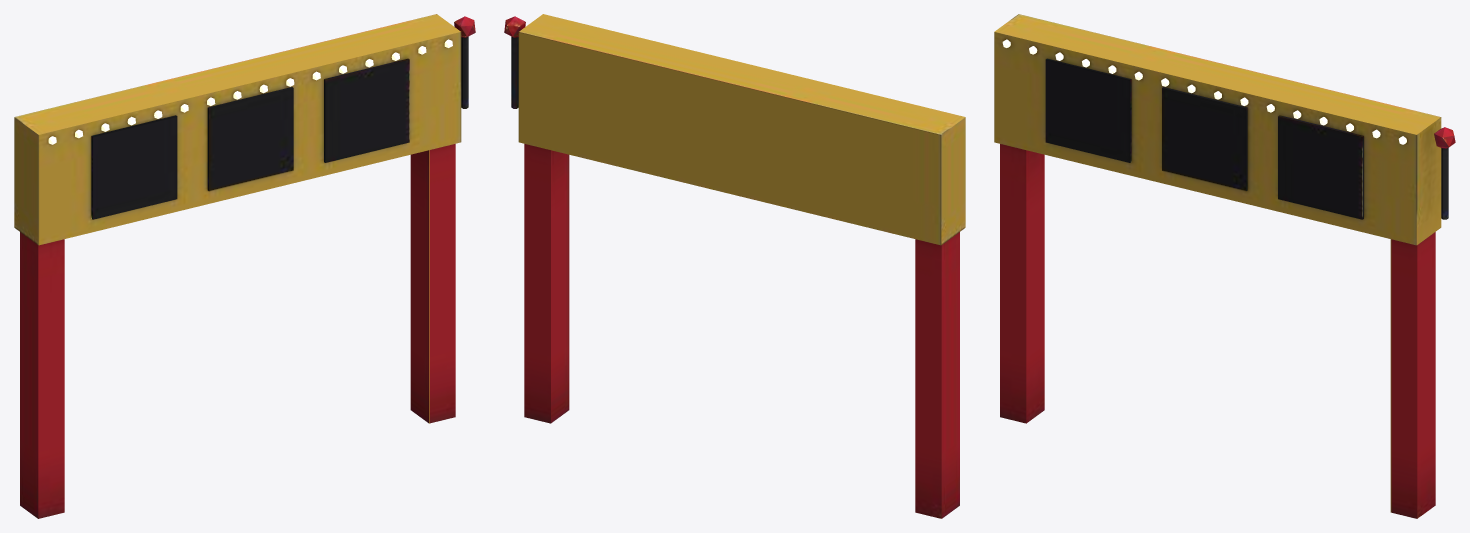
The model's file is arco_tragaperras.glb.
The picture shows the model from 3 angles, left to right: view 1: azimuth 30°, elevation 25°; view 2: azimuth 150°, elevation 25°; view 3: azimuth 330°, elevation 25°; orthographic projection.
Visible parts, largest first — view 1: arco_tragaperras; view 2: arco_tragaperras; view 3: arco_tragaperras.
Boxes of the visible parts, left/top/right/bottom form: arco_tragaperras: left=14, top=14, right=475, bottom=518; arco_tragaperras: left=504, top=14, right=965, bottom=518; arco_tragaperras: left=994, top=14, right=1455, bottom=518.
Bounding box in the file's own units: 8.48 × 7.05 × 0.8881.
Materials: 1 (1 with a texture image).
